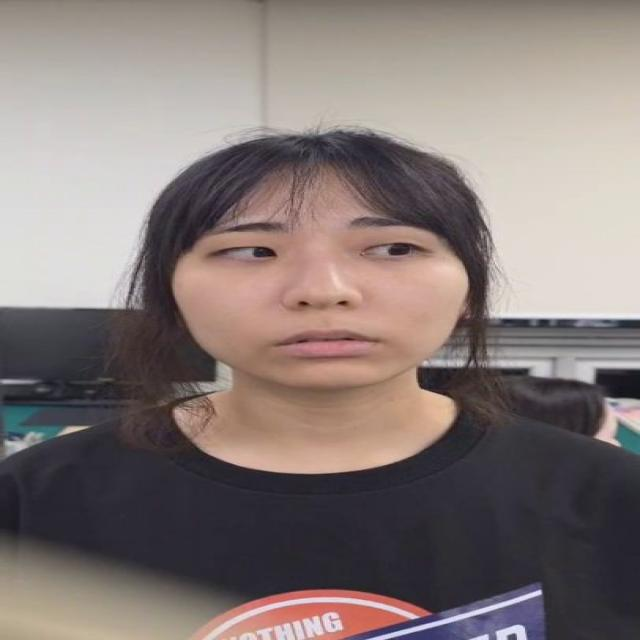eyes: (194, 238, 441, 270)
face: (172, 126, 468, 390)
iris_left: (381, 241, 414, 256), (250, 245, 278, 259)
